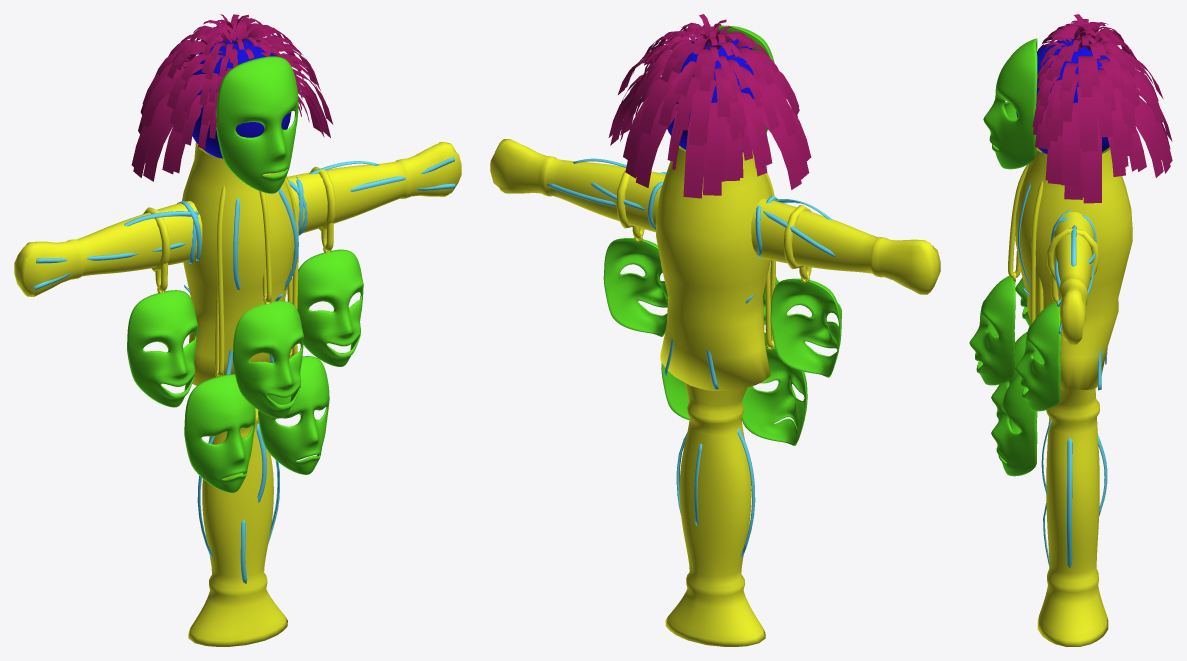
File: 2_Creature.fbx
The picture shows the model from 3 angles, left to right: view 1: azimuth 30°, elevation 25°; view 2: azimuth 150°, elevation 25°; view 3: azimuth 270°, elevation 25°; orthographic projection.
Visible parts, largest first — view 1: mask_low1, arm_low, body_low, hair_low, leg_low, mask_low, single_low, loop_low, head_low; view 2: hair_low, body_low, leg_low, arm_low, mask_low1, single_low, loop_low, head_low; view 3: hair_low, leg_low, body_low, mask_low1, mask_low, arm_low, single_low, loop_low, head_low.
Boxes of the visible parts, box(x1,y1,x2,y2) form: mask_low1: box(127, 249, 363, 492); arm_low: box(14, 141, 461, 296); body_low: box(182, 142, 294, 385); hair_low: box(131, 14, 333, 181); leg_low: box(188, 408, 287, 646); mask_low: box(216, 56, 298, 193); single_low: box(34, 157, 455, 583); loop_low: box(143, 166, 335, 375); head_low: box(191, 38, 291, 158); hair_low: box(608, 14, 811, 198); body_low: box(656, 145, 771, 391); leg_low: box(665, 383, 765, 646); arm_low: box(490, 139, 940, 294); mask_low1: box(603, 238, 841, 445); single_low: box(546, 158, 933, 556); loop_low: box(616, 171, 811, 347); head_low: box(667, 37, 754, 151); hair_low: box(1032, 14, 1172, 203); leg_low: box(1037, 388, 1108, 646); body_low: box(1015, 147, 1132, 389); mask_low1: box(969, 275, 1061, 476); mask_low: box(983, 38, 1037, 169); arm_low: box(1052, 212, 1094, 344); single_low: box(1018, 182, 1107, 567); loop_low: box(1008, 151, 1099, 325); head_low: box(1016, 38, 1110, 153).
Bounding box in the file's own units: 21.32 × 28.29 × 8.62.
